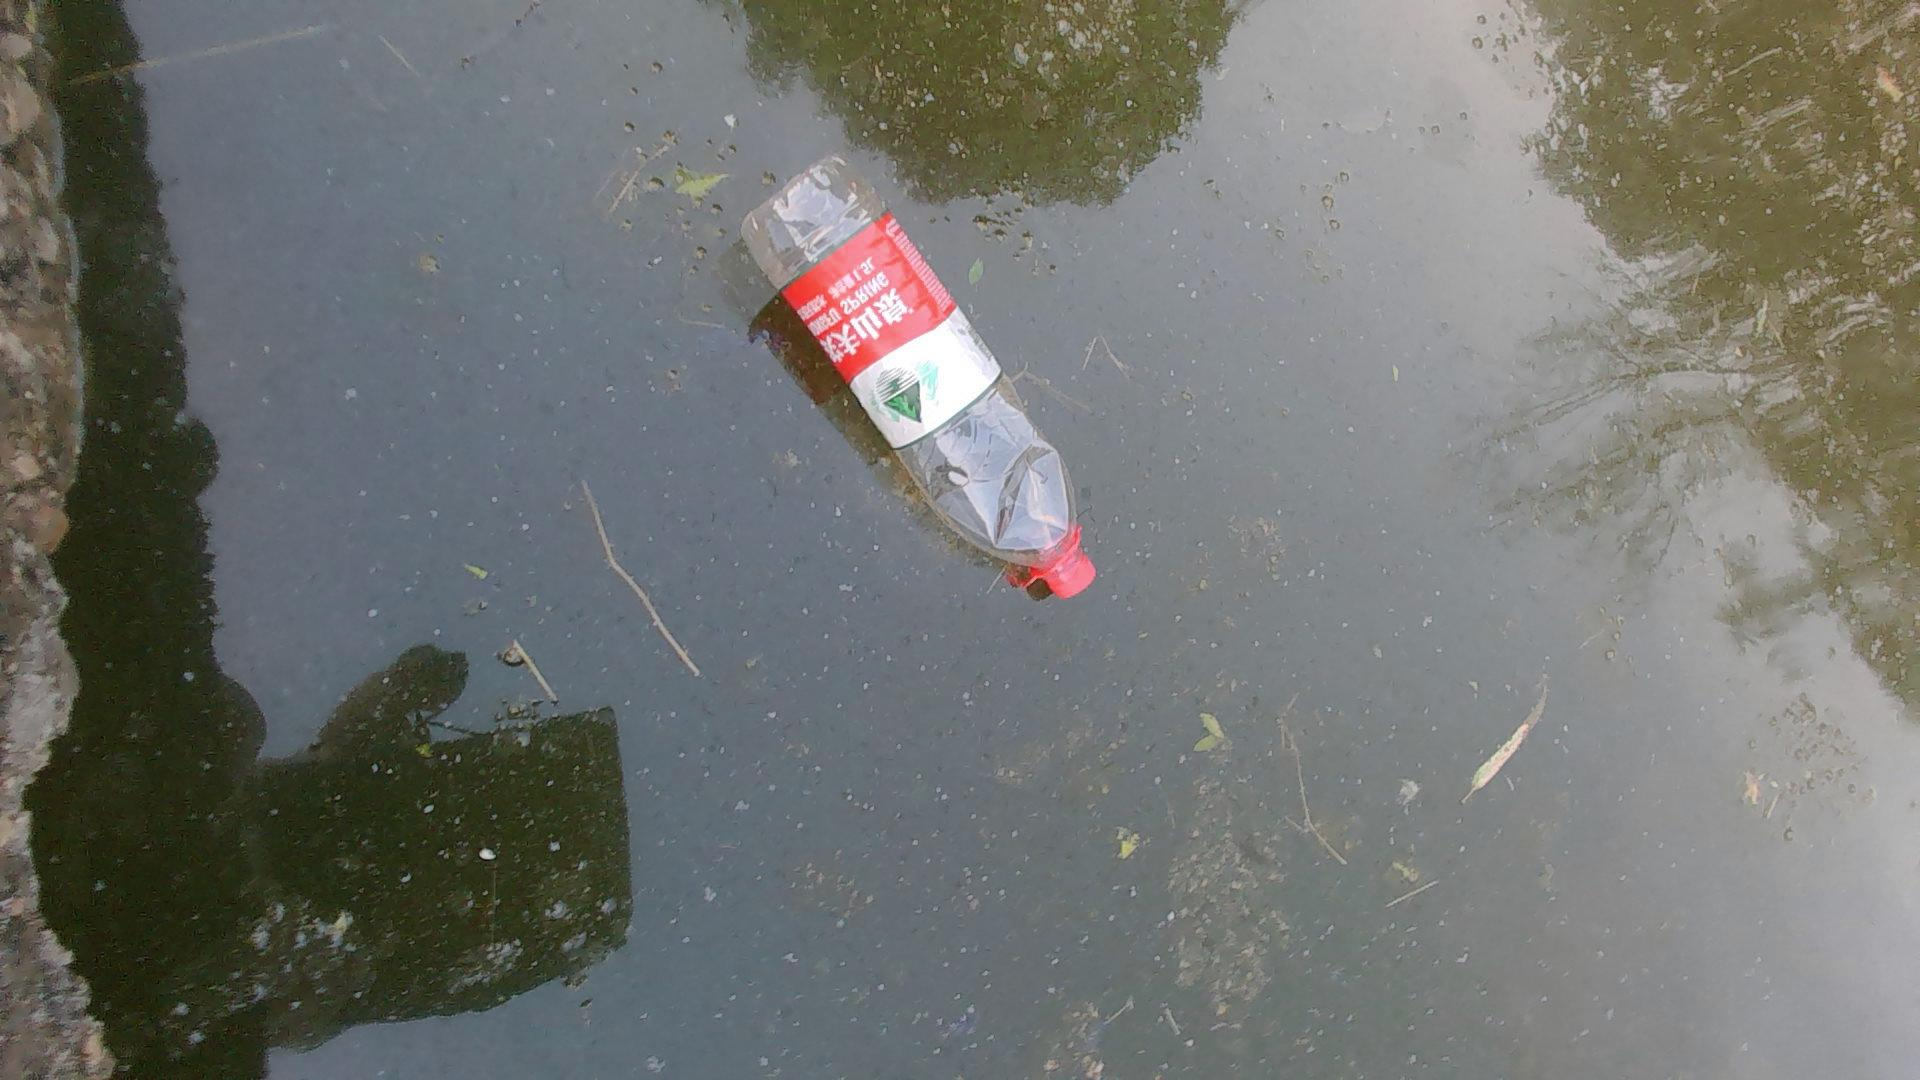Plastic: (736, 145, 1113, 604)
